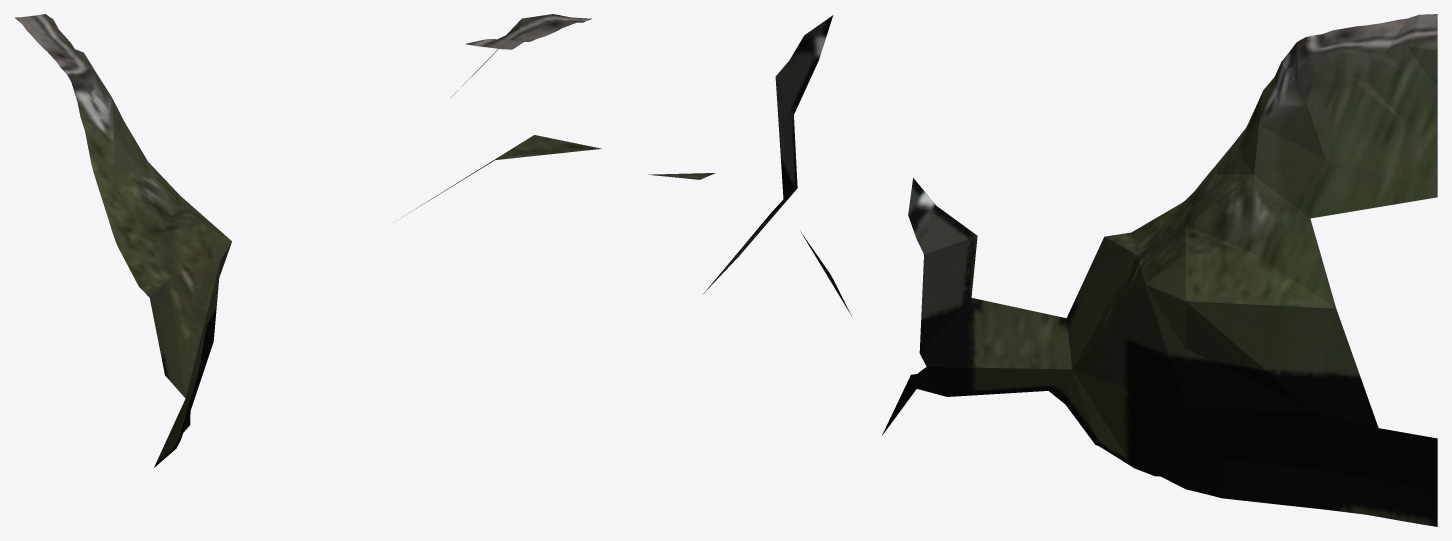
3 renders of one model, left to right at view 1: azimuth 30°, elevation 25°; view 2: azimuth 150°, elevation 25°; view 3: azimuth 270°, elevation 25°, orthographic. The views are drawn at different scales.
Size of the model in its own units: 1.15 by 2.55 by 2.99.
Materials: 1 (1 with a texture image).
